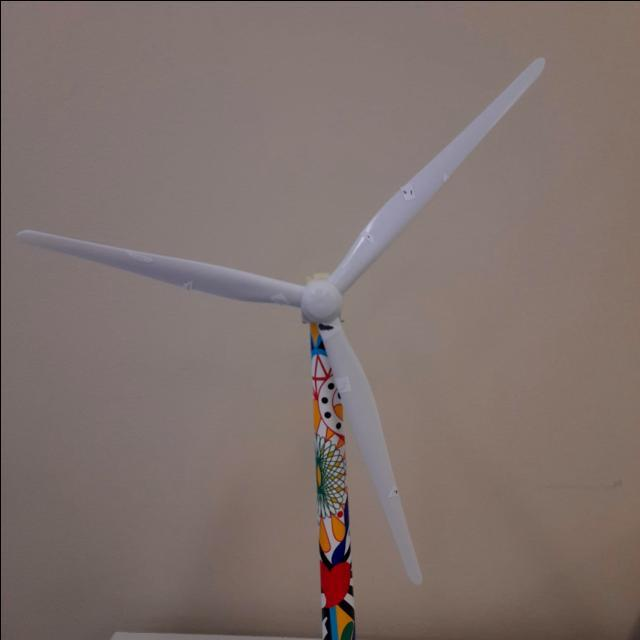dano: (126, 248, 147, 264), (269, 294, 289, 306), (401, 184, 414, 202), (337, 379, 347, 392), (364, 230, 372, 244), (388, 487, 398, 496), (183, 282, 191, 292)
